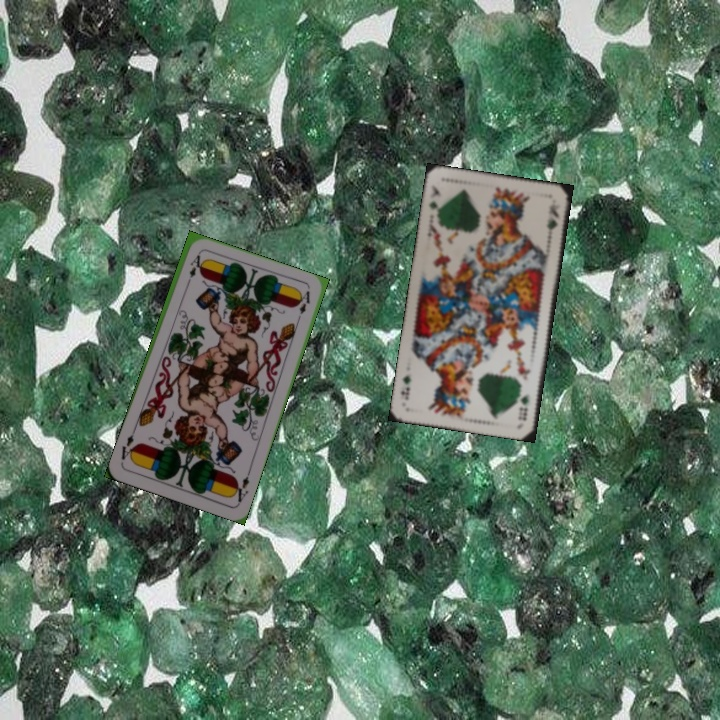EA: (228, 466, 253, 506), (182, 251, 203, 289)
GK: (425, 182, 444, 221), (514, 391, 531, 423)
